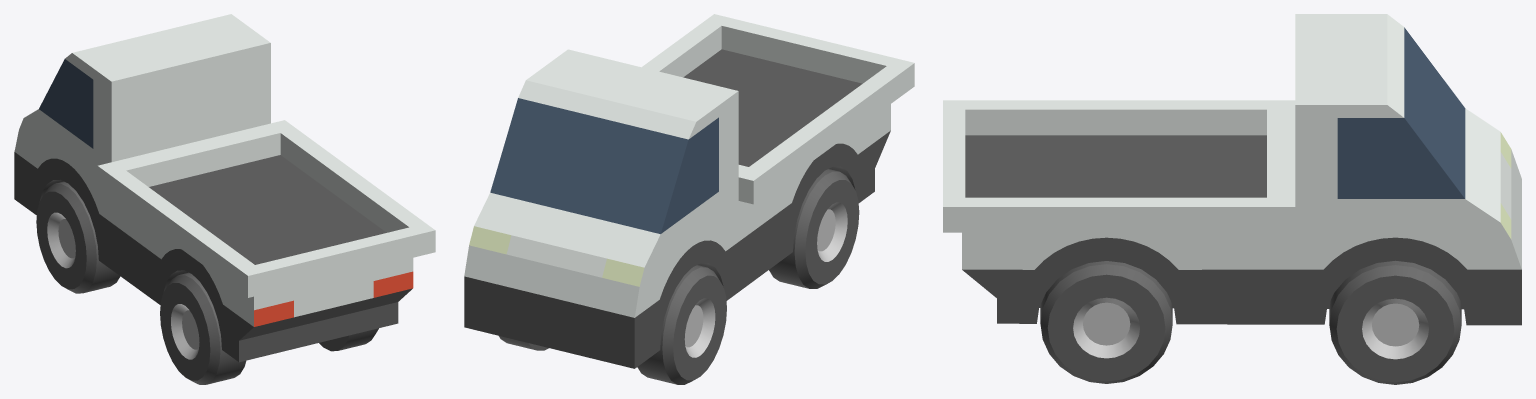
The model's file is carTruckFlat.obj.
3 views of the same model, side by side, from view 1: azimuth 30°, elevation 25°; view 2: azimuth 150°, elevation 25°; view 3: azimuth 270°, elevation 25° (orthographic). The views are drawn at different scales.
Visible parts, largest first — view 1: body 12, wheelBackLeft 12, wheelFrontLeft 12, wheelBackRight 12; view 2: body 12, wheelBackLeft 12, wheelFrontLeft 12; view 3: body 12, wheelFrontRight 12, wheelBackRight 12.
Part boxes in pixels (left/top/right/bottom): body 12: left=14, top=14, right=435, bottom=362; wheelBackLeft 12: left=160, top=272, right=246, bottom=384; wheelFrontLeft 12: left=36, top=181, right=120, bottom=293; wheelBackRight 12: left=319, top=328, right=378, bottom=351; body 12: left=464, top=14, right=914, bottom=368; wheelBackLeft 12: left=769, top=169, right=859, bottom=288; wheelFrontLeft 12: left=637, top=265, right=726, bottom=384; body 12: left=943, top=14, right=1521, bottom=325; wheelFrontRight 12: left=1329, top=260, right=1461, bottom=384; wheelBackRight 12: left=1040, top=261, right=1172, bottom=383.
Size of the model in its own units: 5.35 by 6.57 by 12.25.
